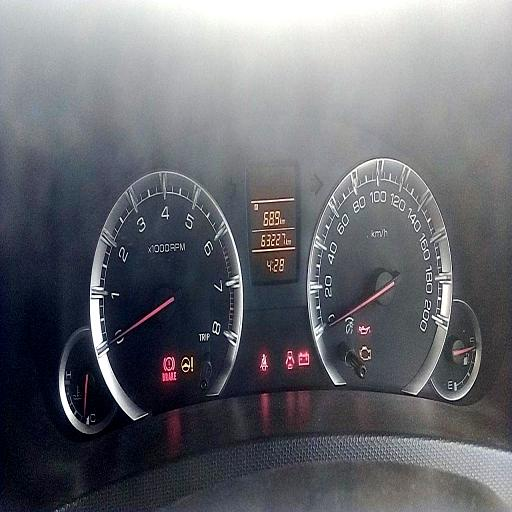belt: (260, 353, 268, 371)
brake_system_fault: (164, 357, 176, 371)
check_engine: (360, 346, 371, 360)
oil: (358, 326, 371, 336)
tachometer: (90, 170, 244, 422)
vehicle_charging: (298, 352, 310, 366)
